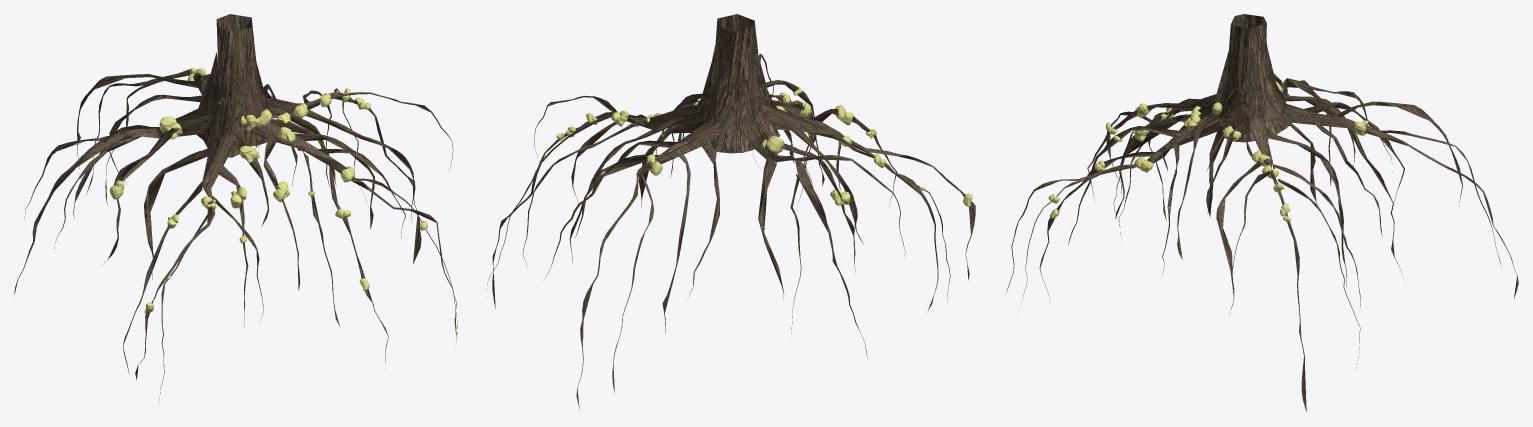
File: roots_fruit.fbx
The picture shows the model from 3 angles, left to right: view 1: azimuth 30°, elevation 25°; view 2: azimuth 150°, elevation 25°; view 3: azimuth 270°, elevation 25°; orthographic projection. The views are drawn at different scales.
Parts seen in each view (by area): view 1: polySurface5, polySurface2, polySurface3, polySurface7, polySurface9, polySurface19, polySurface13, polySurface44, polySurface35, polySurface26, polySurface21, polySurface27 (+10 smaller); view 2: polySurface2, polySurface11, polySurface3, polySurface5, polySurface9, polySurface14, polySurface34, polySurface19, polySurface46, polySurface41, polySurface21, polySurface39 (+6 smaller); view 3: polySurface2, polySurface9, polySurface11, polySurface7, polySurface5, polySurface26, polySurface34, polySurface44, polySurface35, polySurface28, polySurface30, polySurface41 (+6 smaller).
Part boxes in pixels (bbox=[...]): polySurface5: bbox=[135, 55, 244, 380]; polySurface2: bbox=[197, 14, 266, 157]; polySurface3: bbox=[14, 56, 217, 296]; polySurface7: bbox=[245, 58, 456, 342]; polySurface9: bbox=[256, 63, 421, 263]; polySurface19: bbox=[144, 148, 209, 279]; polySurface13: bbox=[102, 127, 180, 264]; polySurface44: bbox=[77, 74, 200, 168]; polySurface35: bbox=[306, 109, 414, 222]; polySurface26: bbox=[263, 131, 300, 290]; polySurface21: bbox=[123, 181, 202, 373]; polySurface27: bbox=[295, 133, 374, 229]; polySurface2: bbox=[711, 14, 780, 153]; polySurface11: bbox=[576, 57, 733, 409]; polySurface3: bbox=[737, 59, 867, 359]; polySurface5: bbox=[758, 56, 975, 280]; polySurface9: bbox=[492, 46, 715, 308]; polySurface14: bbox=[758, 155, 784, 298]; polySurface34: bbox=[569, 114, 685, 262]; polySurface19: bbox=[784, 121, 863, 244]; polySurface46: bbox=[545, 154, 658, 277]; polySurface41: bbox=[688, 137, 719, 296]; polySurface21: bbox=[831, 133, 938, 312]; polySurface39: bbox=[639, 120, 704, 207]; polySurface2: bbox=[1224, 14, 1289, 142]; polySurface9: bbox=[1239, 57, 1306, 411]; polySurface11: bbox=[1266, 48, 1518, 298]; polySurface7: bbox=[1006, 53, 1236, 292]; polySurface5: bbox=[1106, 50, 1228, 194]; polySurface26: bbox=[1115, 114, 1206, 218]; polySurface34: bbox=[1266, 131, 1346, 286]; polySurface44: bbox=[1335, 101, 1462, 206]; polySurface35: bbox=[1216, 160, 1261, 309]; polySurface28: bbox=[1068, 126, 1178, 244]; polySurface30: bbox=[1039, 152, 1155, 300]; polySurface41: bbox=[1304, 102, 1404, 205].
Size of the model in its own units: 185 by 143 by 224.
